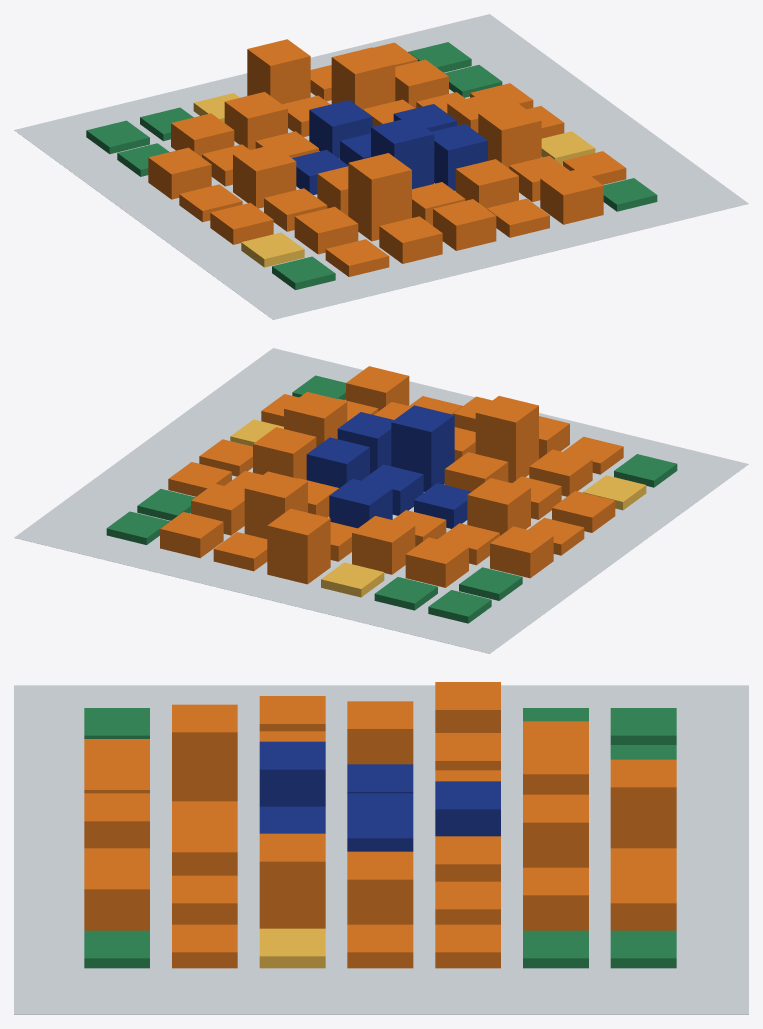
Rendered from city_model.obj.
3 renders of one model, top to bottom at view 1: azimuth 30°, elevation 25°; view 2: azimuth 150°, elevation 25°; view 3: azimuth 270°, elevation 25°, orthographic. The views are drawn at different scales.
Visible parts, largest first — view 1: res_high, ground, business, park, res_low; view 2: res_high, ground, business, park, res_low; view 3: ground, res_high, business, park, res_low.
Part boxes in pixels (box(x1,y1,x2,y2)): res_high: box(148, 39, 626, 276); ground: box(14, 14, 748, 319); business: box(292, 100, 487, 194); park: box(86, 42, 657, 289); res_low: box(193, 93, 595, 267); res_high: box(160, 366, 623, 587); ground: box(14, 348, 748, 653); business: box(306, 405, 471, 528); park: box(106, 375, 677, 623); res_low: box(230, 419, 646, 597); ground: box(14, 685, 748, 1014); res_high: box(84, 682, 676, 968); business: box(259, 741, 500, 851); park: box(84, 708, 676, 968); res_low: box(259, 928, 325, 968).
Size of the model in its own units: 710 by 88.2 by 670.
